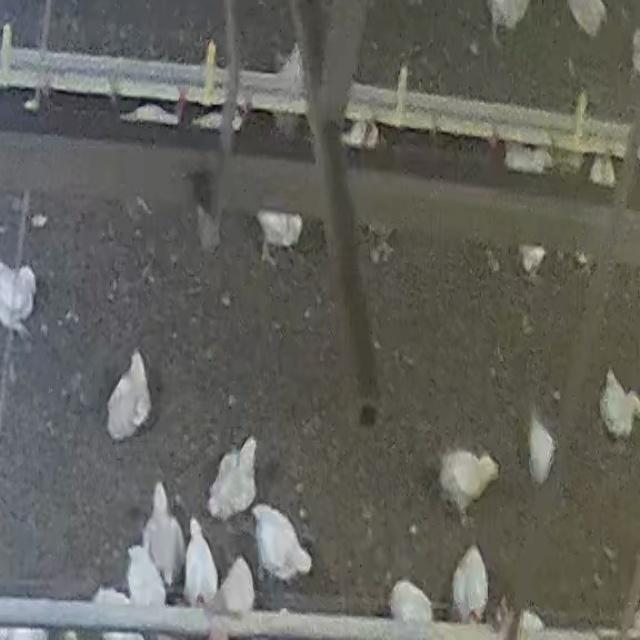chicken: (251, 503, 314, 583), (434, 439, 502, 512), (106, 351, 153, 444), (144, 481, 186, 585), (209, 437, 259, 521), (183, 514, 219, 608), (451, 543, 491, 623), (1, 257, 37, 337), (124, 544, 169, 607), (601, 368, 640, 440), (214, 556, 256, 618), (254, 208, 304, 260), (528, 408, 557, 485)
